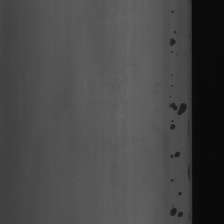oil_spot: (168, 92, 188, 120), (166, 203, 185, 224), (168, 27, 179, 51), (166, 118, 177, 134), (167, 148, 180, 160), (186, 158, 190, 177), (168, 173, 175, 182), (176, 189, 182, 197)
